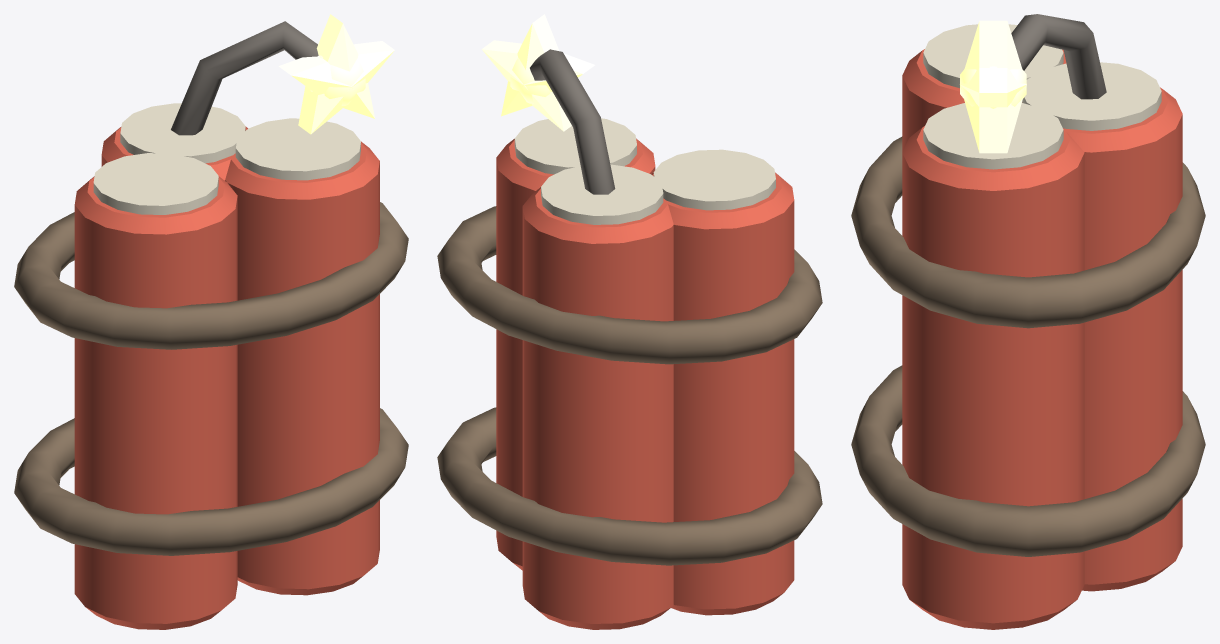
The model's file is dynamite.glb.
3 views of the same model, side by side, from view 1: azimuth 30°, elevation 25°; view 2: azimuth 150°, elevation 25°; view 3: azimuth 270°, elevation 25° (orthographic). The views are drawn at different scales.
Parts seen in each view (by area): view 1: dynamite, spark; view 2: dynamite, spark; view 3: dynamite, spark.
Boxes of the visible parts, x1,y1,x2,y2 form: dynamite: [14, 21, 408, 629]; spark: [278, 14, 394, 134]; dynamite: [437, 49, 822, 629]; spark: [481, 14, 594, 131]; dynamite: [851, 14, 1205, 629]; spark: [960, 20, 1026, 153].
Size of the model in its own units: 0.3318 by 0.47 by 0.2528.
